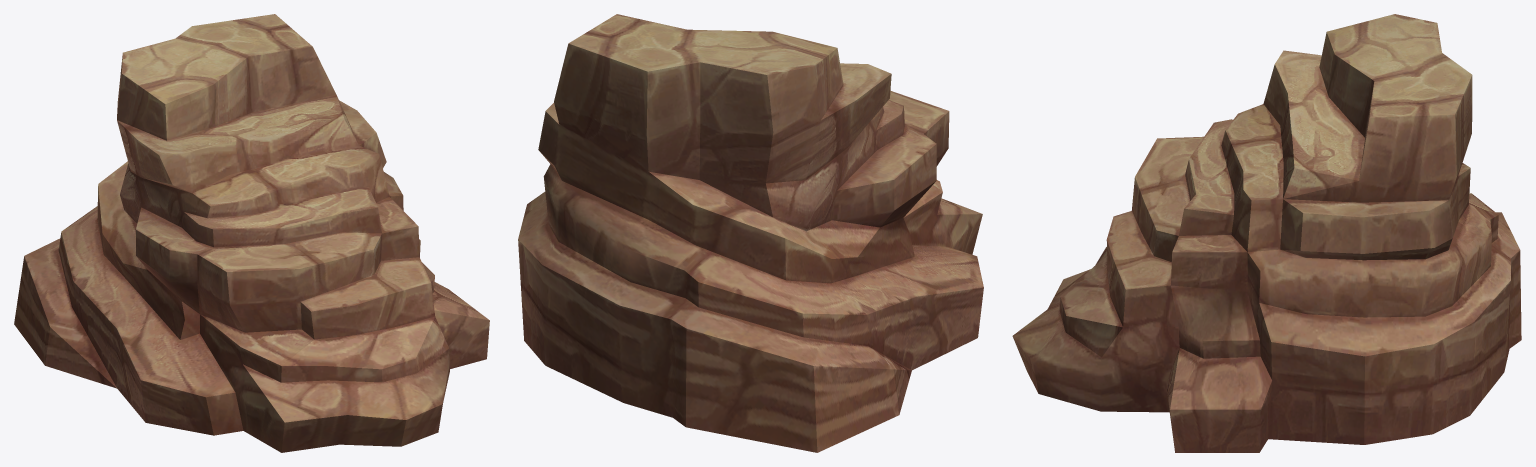
The model's file is stone_36.FBX.
3 renders of one model, left to right at view 1: azimuth 30°, elevation 25°; view 2: azimuth 150°, elevation 25°; view 3: azimuth 270°, elevation 25°, orthographic. The views are drawn at different scales.
Parts seen in each view (by area): view 1: stone_36; view 2: stone_36; view 3: stone_36.
Boxes of the visible parts, x1,y1,x2,y2 form: stone_36: (14, 14, 489, 452); stone_36: (518, 14, 983, 452); stone_36: (1012, 14, 1521, 452).
Bounding box in the file's own units: 12.81 × 10 × 15.32.
